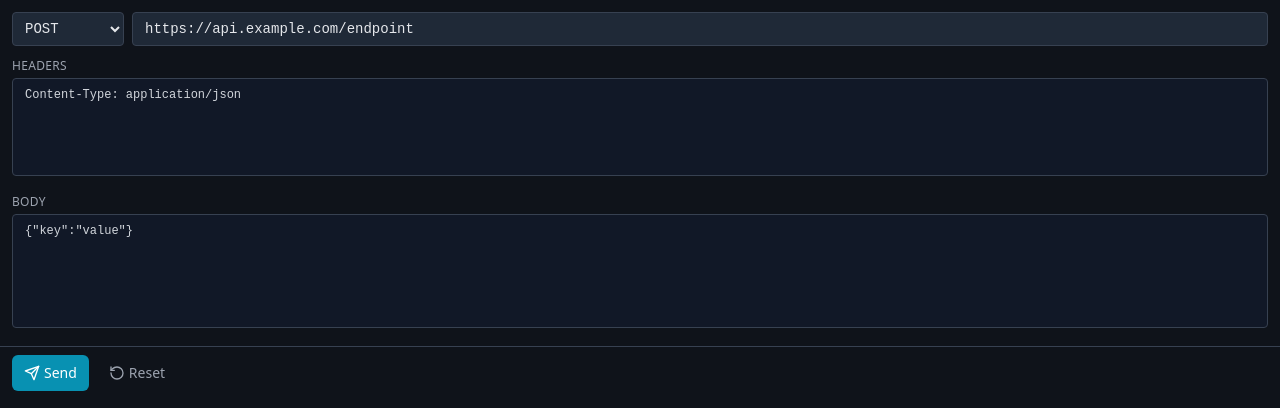
Test case: ReplayPanel › resets fields when Reset is clicked
Replace the text in the text box with placeholder "Request body (JSON, form data, etc.)" below "Body" with "changed" at [640, 271], box [12,214,1268,328]
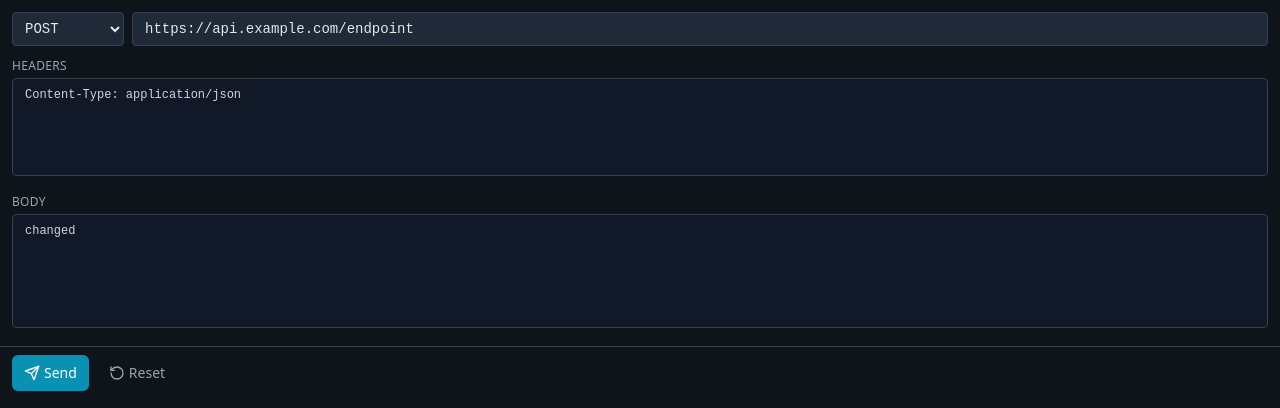
Click the button "Reset" at [137, 373], box [97,355,177,391]
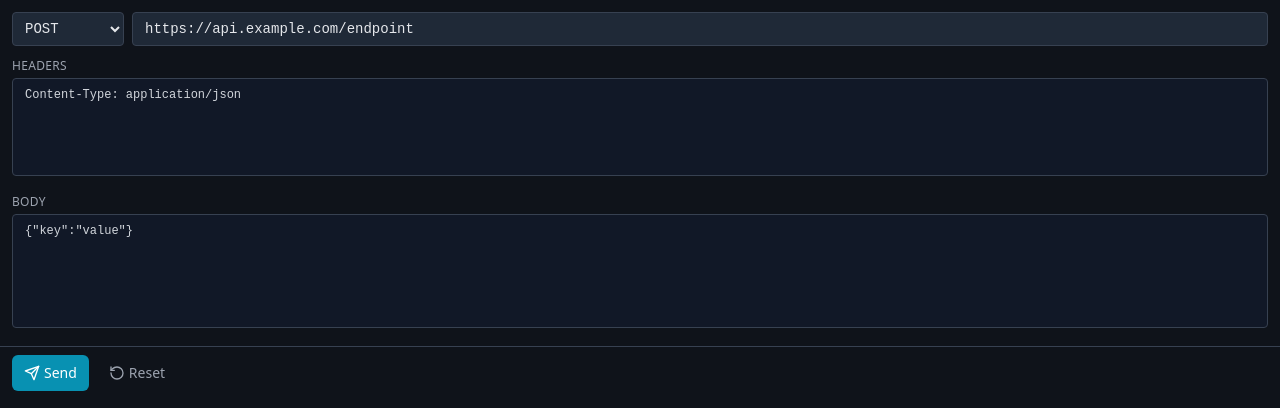
Now the text box with placeholder "Request body (JSON, form data, etc.)" below "Body" holds "{\"key\":\"value\"}", box [12,214,1268,328]
